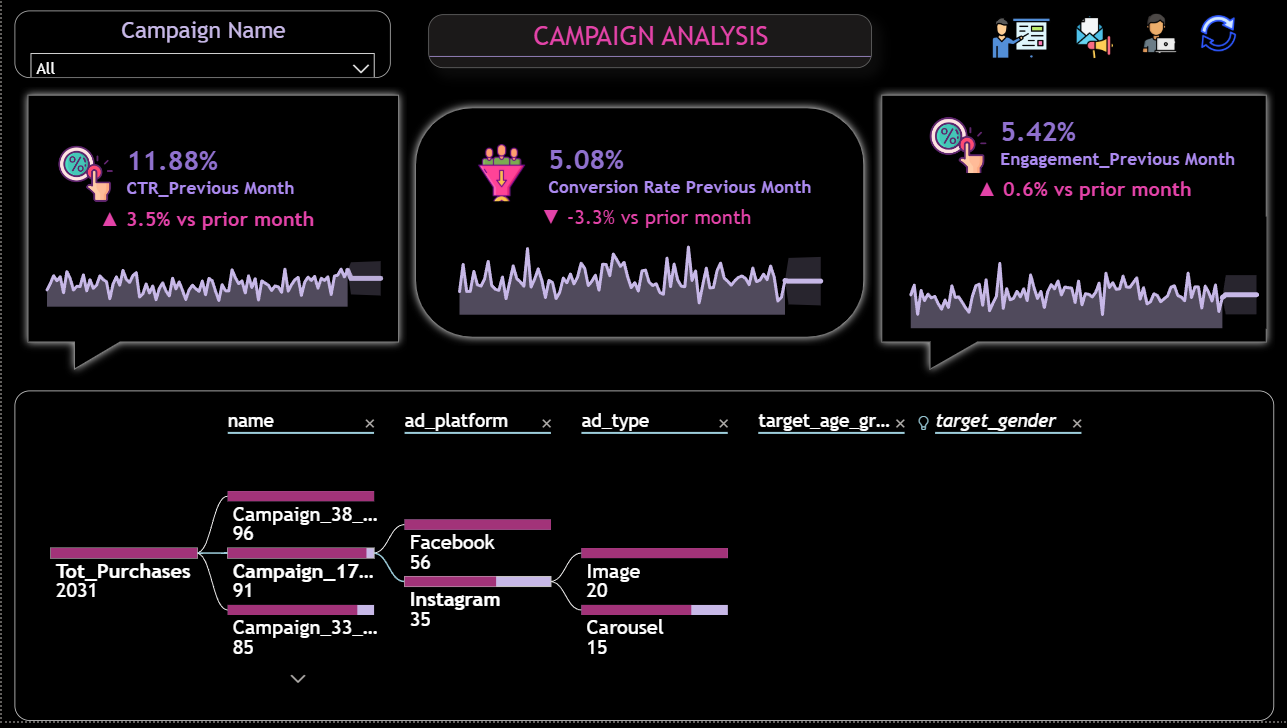

Layout of this report page (visuals, bound fields, positions):
{"tool":"powerbi","page":{"name":"Campaign Analysis1","canvas":[1280,720],"ordinal":2},"visuals":[{"type":"decompositionTreeVisual","fields":{"ExplainBy":["campaigns.name","ads.ad_platform","ads.ad_type","ads.target_age_group","ads.target_gender"],"Analyze":["Measure Table.Tot_Purchases"]},"box":[13,391,1253.8,328.9],"z":0},{"type":"textbox","title":"CAMPAIGN ANALYSIS","box":[424.2,16.2,441.6,53.5],"z":1000},{"type":"shape","box":[17.4,88.3,385.6,289.8],"z":2000},{"type":"cardVisual","title":"CTR (CURRENT)","fields":{"Data":["Measure Table.CTR_Previous Month"]},"box":[28.2,110.2,341.9,150],"z":3000},{"type":"lineChart","fields":{"Y":["Measure Table.CTR"],"Category":["ad_events.Date_New"]},"box":[34.8,237.6,352,69.7],"z":4000},{"type":"shape","box":[867.1,88,399.6,290],"z":5000},{"type":"cardVisual","fields":{"Data":["Measure Table.Engagement_Previous Month"]},"box":[900.3,101,353.5,147.2],"z":6000},{"type":"image","box":[979,16.2,70.9,46.5],"z":7000},{"type":"shape","box":[402.5,101,463.1,245.3],"z":8000},{"type":"cardVisual","title":"CTR (CURRENT)","fields":{"Data":["Measure Table.Conversion Rate Previous Month"]},"box":[441.6,128.1,399.3,148],"z":9000},{"type":"image","box":[1067.3,12.4,46.5,52.6],"z":10000},{"type":"image","box":[1132,0,40.4,69.7],"z":11000},{"type":"image","box":[1193,7.5,35.5,55],"z":12000},{"type":"lineChart","fields":{"Category":["ad_events.Date_New"],"Y":["Measure Table.Conversion_Rate"]},"box":[445.3,237.6,379.4,77.9],"z":13000},{"type":"lineChart","fields":{"Category":["ad_events.Date_New"],"Y":["Measure Table.Engagement_Rate"]},"box":[894.4,217.2,364.1,110.9],"z":14000},{"type":"slicer","title":"Campaign Name","fields":{"Values":["campaigns.name"]},"box":[12.4,12.4,374.4,67.2],"z":15000}]}

Visuals, with their boxes in screenshot pixels (x1, y1, x2, y2), scaled from the page's 1280x720 canvas onto the 1287x728 screenshot:
decompositionTreeVisual - campaigns.name x ads.ad_platform: 13,395,1274,727
"CAMPAIGN ANALYSIS" textbox: 427,16,871,70
shape: 17,89,405,382
"CTR (CURRENT)" cardVisual: 28,111,372,263
lineChart - Measure Table.CTR x ad_events.Date_New: 35,240,389,311
shape: 872,89,1274,382
cardVisual - Measure Table.Engagement_Previous Month: 905,102,1261,251
image: 984,16,1056,63
shape: 405,102,870,350
"CTR (CURRENT)" cardVisual: 444,130,845,279
image: 1073,13,1120,66
image: 1138,0,1179,70
image: 1200,8,1235,63
lineChart - ad_events.Date_New x Measure Table.Conversion_Rate: 448,240,829,319
lineChart - ad_events.Date_New x Measure Table.Engagement_Rate: 899,220,1265,332
"Campaign Name" slicer: 12,13,389,80
